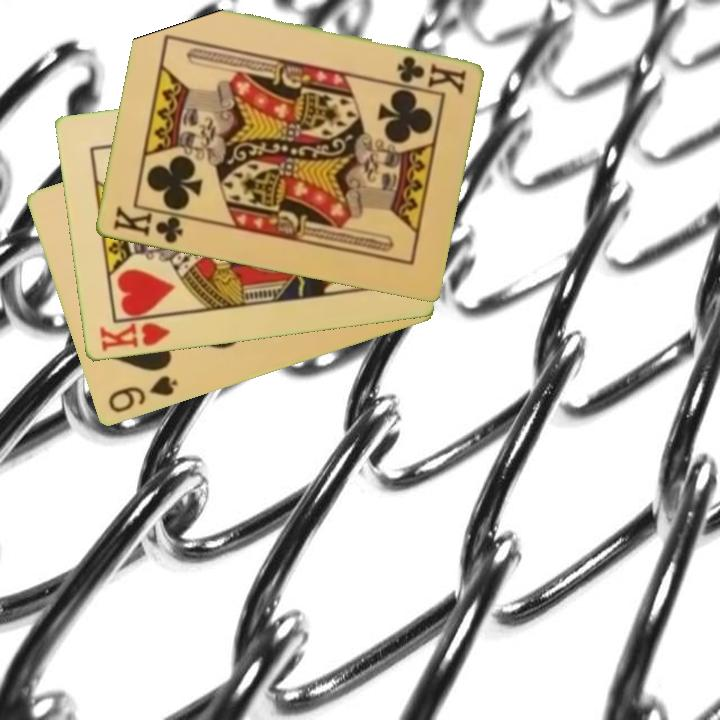9s: (104, 372, 180, 416)
Kc: (109, 203, 192, 247), (392, 52, 469, 95)
Kh: (96, 312, 175, 355)
